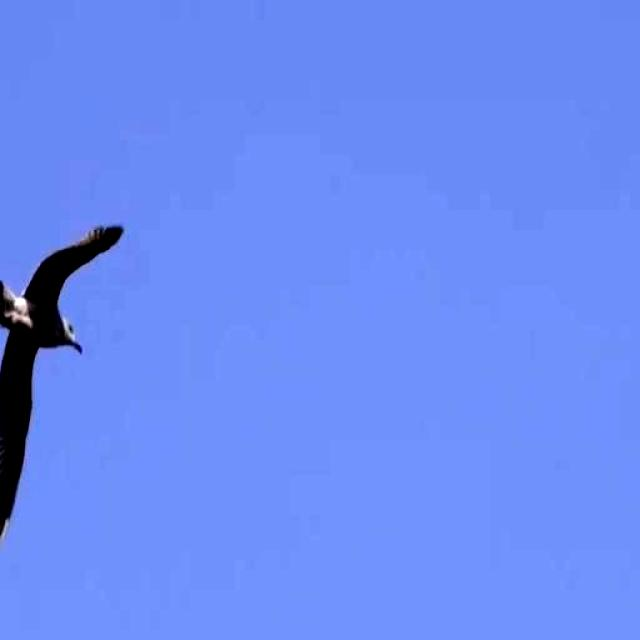airplane: (0, 194, 129, 569)
